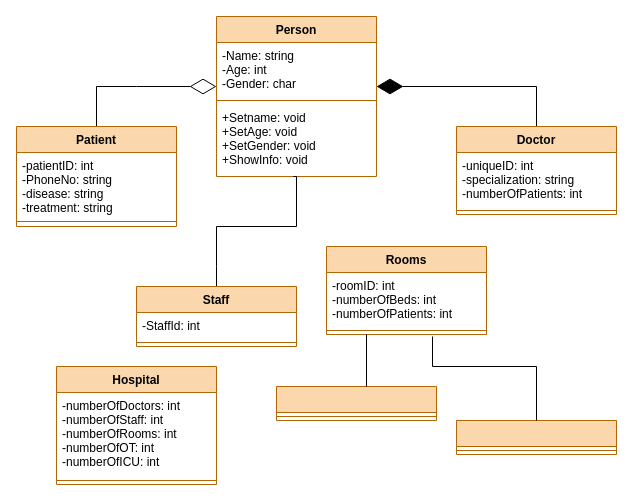
This 633x501 diagram has some shape labels left out. Each missing label, with the centre of its shape:
"ICU" belongs at (x=536, y=437).
"OperationTheatre" belongs at (x=356, y=403).
